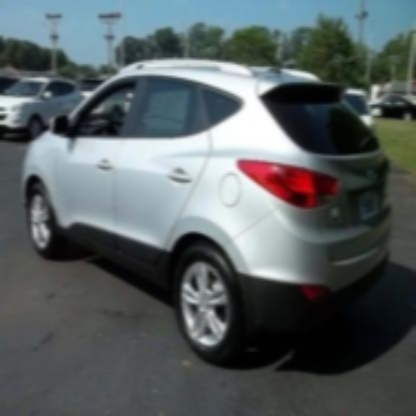Vehicle: (22, 57, 396, 368)
